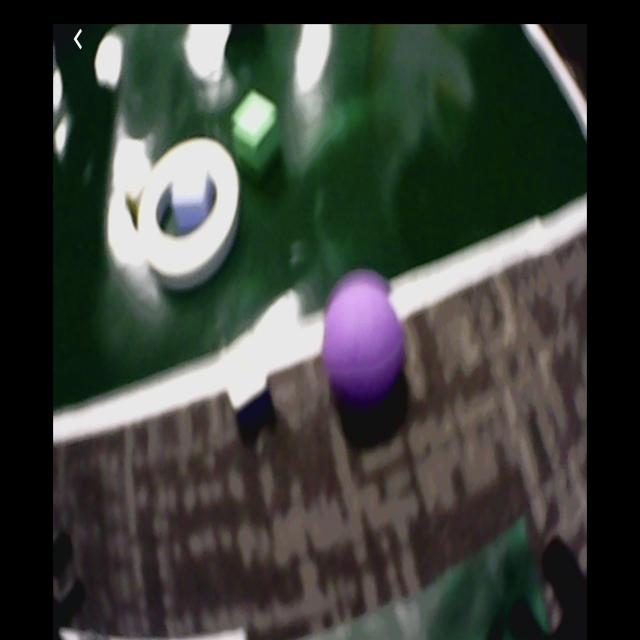ball: (324, 283, 404, 397)
